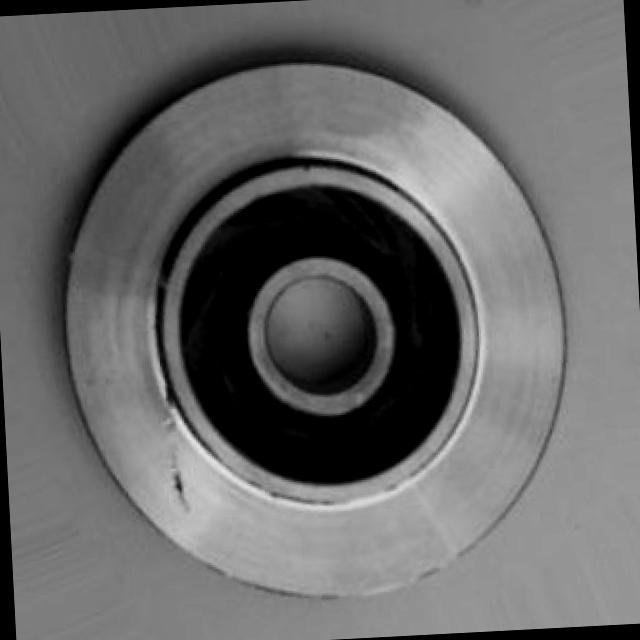Defect: (162, 457, 207, 513)
